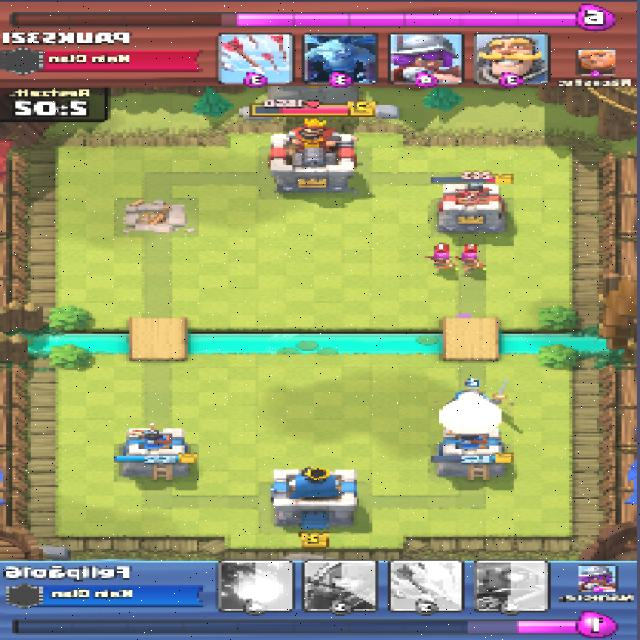Enemy-Archer: (456, 252, 492, 272), (428, 250, 455, 270)
Player-Knight: (442, 391, 507, 416)
